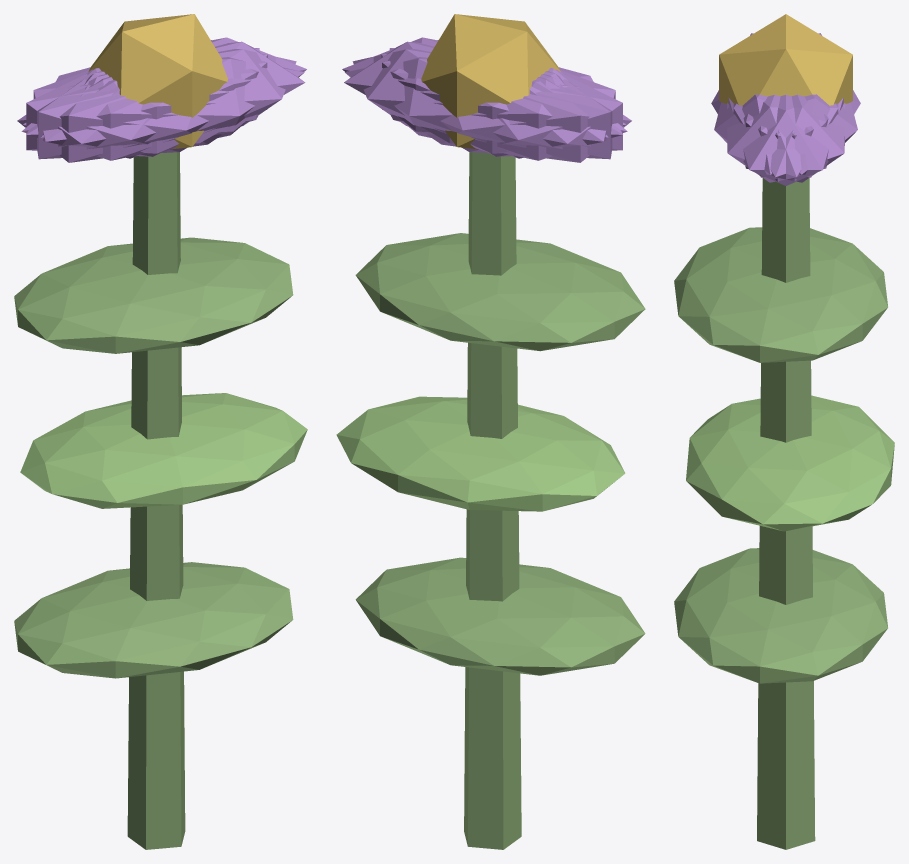
File: petiveria-alliacea.glb
The picture shows the model from 3 angles, left to right: view 1: azimuth 30°, elevation 25°; view 2: azimuth 150°, elevation 25°; view 3: azimuth 270°, elevation 25°; orthographic projection.
Parts seen in each view (by area): view 1: stem, leaf2, leaf0, leaf1, center, petal1, petal6, petal2, petal5, petal7, petal0, petal4 (+2 smaller); view 2: stem, leaf2, leaf1, leaf0, center, petal8, petal3, petal7, petal4, petal2, petal0, petal5 (+2 smaller); view 3: stem, leaf1, leaf2, leaf0, center, petal0, petal4, petal5, petal1, petal8.
Boxes of the visible parts, <box> form: stem: <box>127,152,185,849</box>; leaf2: <box>14,237,293,353</box>; leaf0: <box>14,562,293,678</box>; leaf1: <box>20,393,307,508</box>; center: <box>88,14,227,149</box>; petal1: <box>21,57,304,160</box>; petal6: <box>17,69,221,162</box>; petal2: <box>37,48,259,159</box>; petal5: <box>41,49,296,153</box>; petal7: <box>26,54,267,156</box>; petal0: <box>88,41,305,143</box>; petal4: <box>23,37,306,134</box>; stem: <box>464,152,521,849</box>; leaf2: <box>355,233,645,351</box>; leaf1: <box>336,396,625,511</box>; leaf0: <box>355,557,645,675</box>; center: <box>421,14,560,149</box>; petal8: <box>345,57,627,160</box>; petal3: <box>427,69,631,162</box>; petal7: <box>389,48,612,159</box>; petal4: <box>352,49,608,153</box>; petal2: <box>381,54,622,156</box>; petal0: <box>344,41,560,143</box>; petal5: <box>342,37,626,134</box>; stem: <box>757,178,815,849</box>; leaf1: <box>686,395,894,531</box>; leaf2: <box>674,227,887,362</box>; leaf0: <box>674,548,887,683</box>; center: <box>719,14,852,105</box>; petal0: <box>728,94,843,185</box>; petal4: <box>733,94,845,182</box>; petal5: <box>727,94,838,182</box>; petal1: <box>714,94,828,174</box>; petal8: <box>743,94,857,174</box>.
Bounding box in the file's own units: 0.1452 × 0.4063 × 0.1009.
